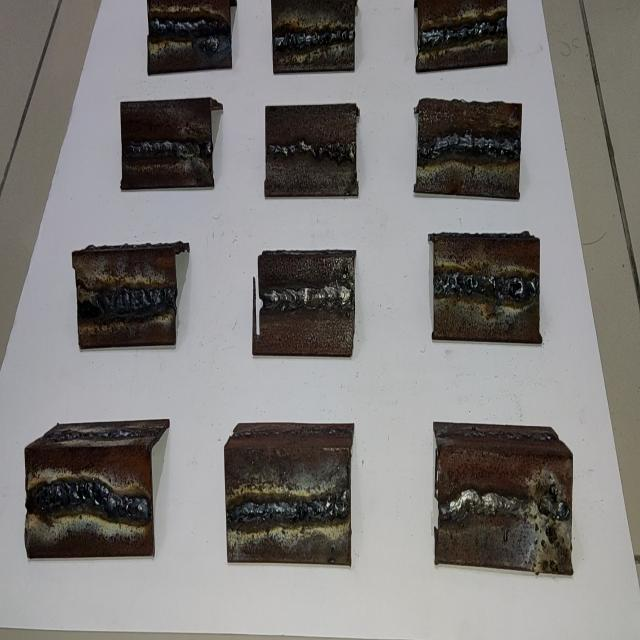Defect: (532, 482, 570, 570), (198, 13, 222, 56)
Welding Line: (27, 482, 150, 520), (228, 496, 348, 526), (419, 17, 506, 48), (420, 134, 520, 160), (441, 495, 532, 522), (268, 282, 352, 308), (100, 288, 176, 308), (272, 30, 356, 48), (268, 140, 356, 156), (150, 18, 226, 36), (123, 142, 210, 154)
Workpiece: (441, 450, 572, 576), (25, 449, 154, 559), (224, 450, 350, 562), (434, 236, 540, 342), (254, 254, 354, 354), (72, 250, 176, 346), (414, 102, 522, 192), (264, 102, 358, 200), (120, 99, 212, 190), (414, 0, 510, 70), (270, 0, 358, 74), (146, 0, 232, 74)
